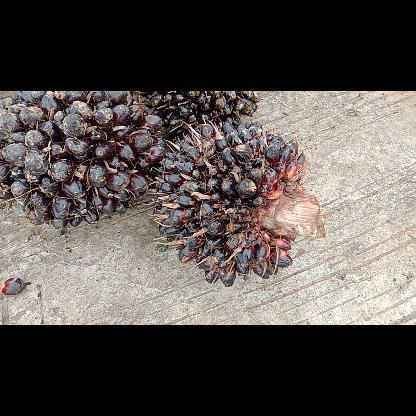TBS mentah: (148, 114, 328, 290), (0, 91, 172, 231)
